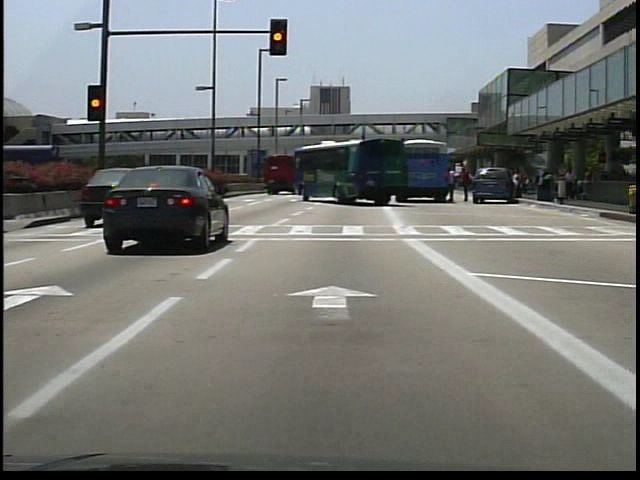person: (458, 161, 472, 203), (513, 168, 525, 203), (451, 164, 452, 203)
